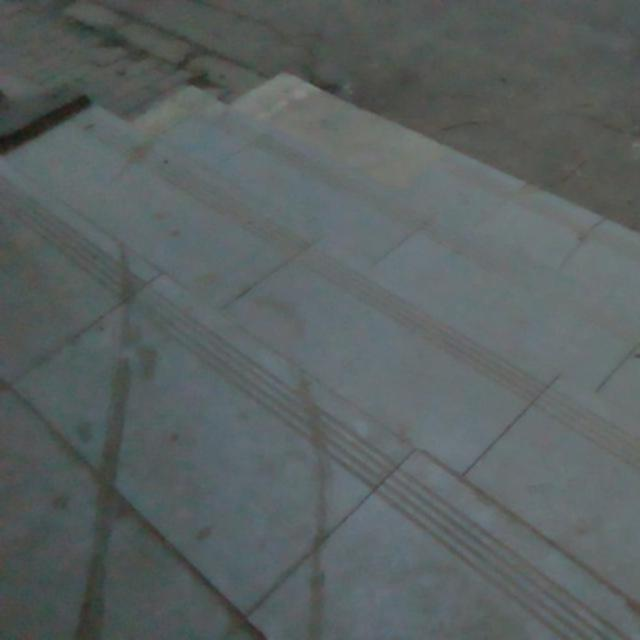stair: (0, 83, 607, 584)
